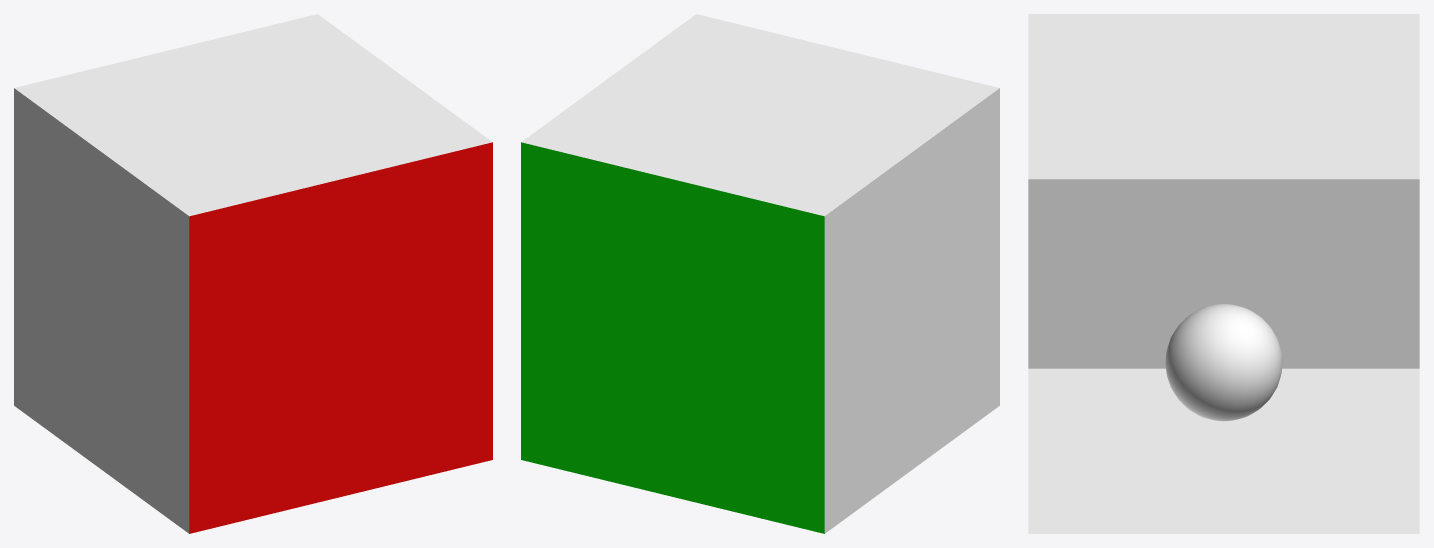
File: cornell_blender.glb
3 views of the same model, side by side, from view 1: azimuth 30°, elevation 25°; view 2: azimuth 150°, elevation 25°; view 3: azimuth 270°, elevation 25° (orthographic). The views are drawn at different scales.
Visible parts, largest first — view 1: Plane.002, Plane.003, Plane.004; view 2: Plane.001, Plane.003, Plane.004; view 3: Plane.003, Plane.004, Plane, Sphere.
Part boxes in pixels (bbox=[...]): Plane.002: bbox=[189, 142, 492, 533]; Plane.003: bbox=[14, 88, 189, 533]; Plane.004: bbox=[14, 14, 492, 216]; Plane.001: bbox=[521, 142, 824, 533]; Plane.003: bbox=[824, 88, 999, 533]; Plane.004: bbox=[521, 14, 999, 216]; Plane.003: bbox=[1028, 179, 1419, 368]; Plane.004: bbox=[1028, 14, 1419, 179]; Plane: bbox=[1028, 368, 1419, 533]; Sphere: bbox=[1165, 304, 1282, 421].
Size of the model in its own units: 10 by 10 by 10.
